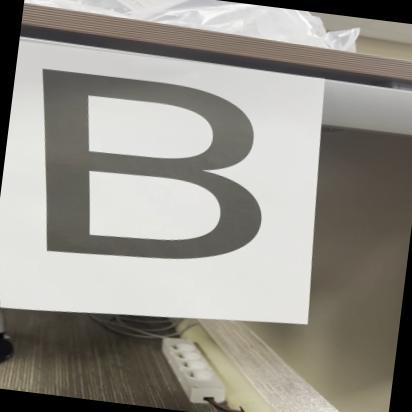seat: (18, 54, 279, 280)
